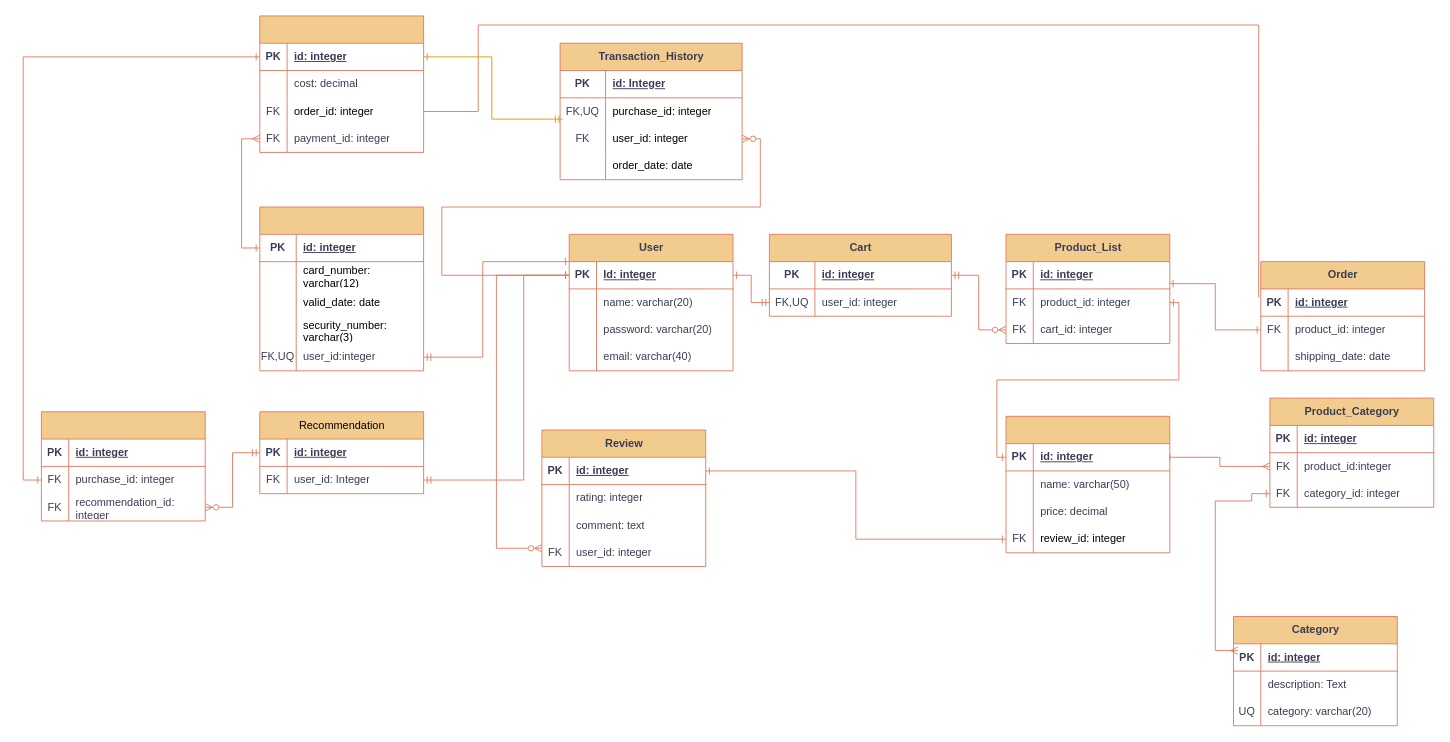
The diagram is 1450 pixels wide and 742 high, and some of its shapes have lost their labels. The shapes that lost their labels are listed below. From the top down, each one's box as (x1, y1, x2, y2) in pixels, then its label:
(259, 15, 424, 152): Purchase
(259, 206, 424, 371): Payment_Info
(40, 411, 205, 521): Recommend_Product_List
(1005, 415, 1170, 553): Product
